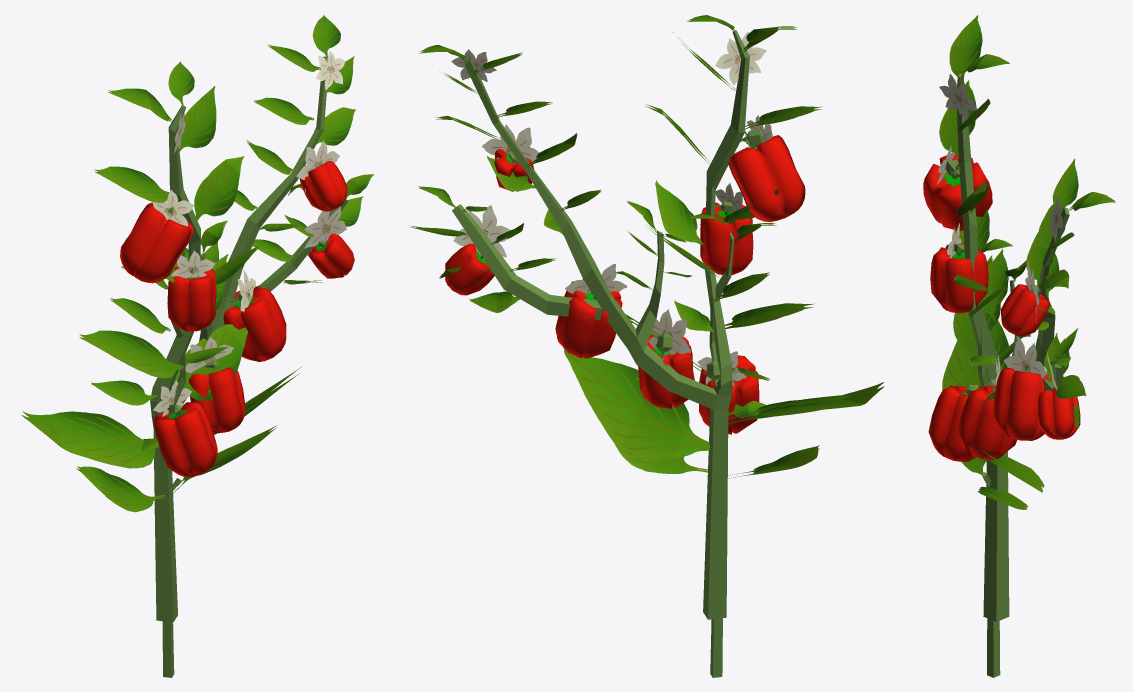
The model's file is BellPepper.fbx.
The picture shows the model from 3 angles, left to right: view 1: azimuth 30°, elevation 25°; view 2: azimuth 150°, elevation 25°; view 3: azimuth 270°, elevation 25°; orthographic projection. The views are drawn at different scales.
Visible parts, largest first — view 1: AdultBP, Buds.002, TeenBP, AdultFlowerBP, BBP.001; view 2: AdultBP, Buds.002, TeenBP, AdultFlowerBP, BBP.001; view 3: AdultBP, Buds.002, TeenBP, AdultFlowerBP, BBP.001.
Boxes of the visible parts, x1,y1,x2,y2 form: AdultBP: (91,15,373,622); Buds.002: (120,50,354,476); TeenBP: (21,251,300,677); AdultFlowerBP: (153,112,346,416); BBP.001: (76,425,276,512); AdultBP: (409,15,822,619); Buds.002: (445,49,805,434); TeenBP: (563,213,884,677); AdultFlowerBP: (453,32,772,389); BBP.001: (615,445,819,478); AdultBP: (939,15,1115,621); Buds.002: (923,79,1080,461); TeenBP: (942,238,1044,677); AdultFlowerBP: (937,74,1056,390); BBP.001: (961,457,1027,509).
Bounding box in the file's own units: 175 × 256 × 72.32.
